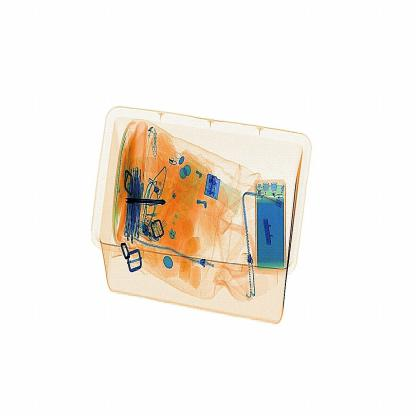knife: (122, 191, 167, 212)
